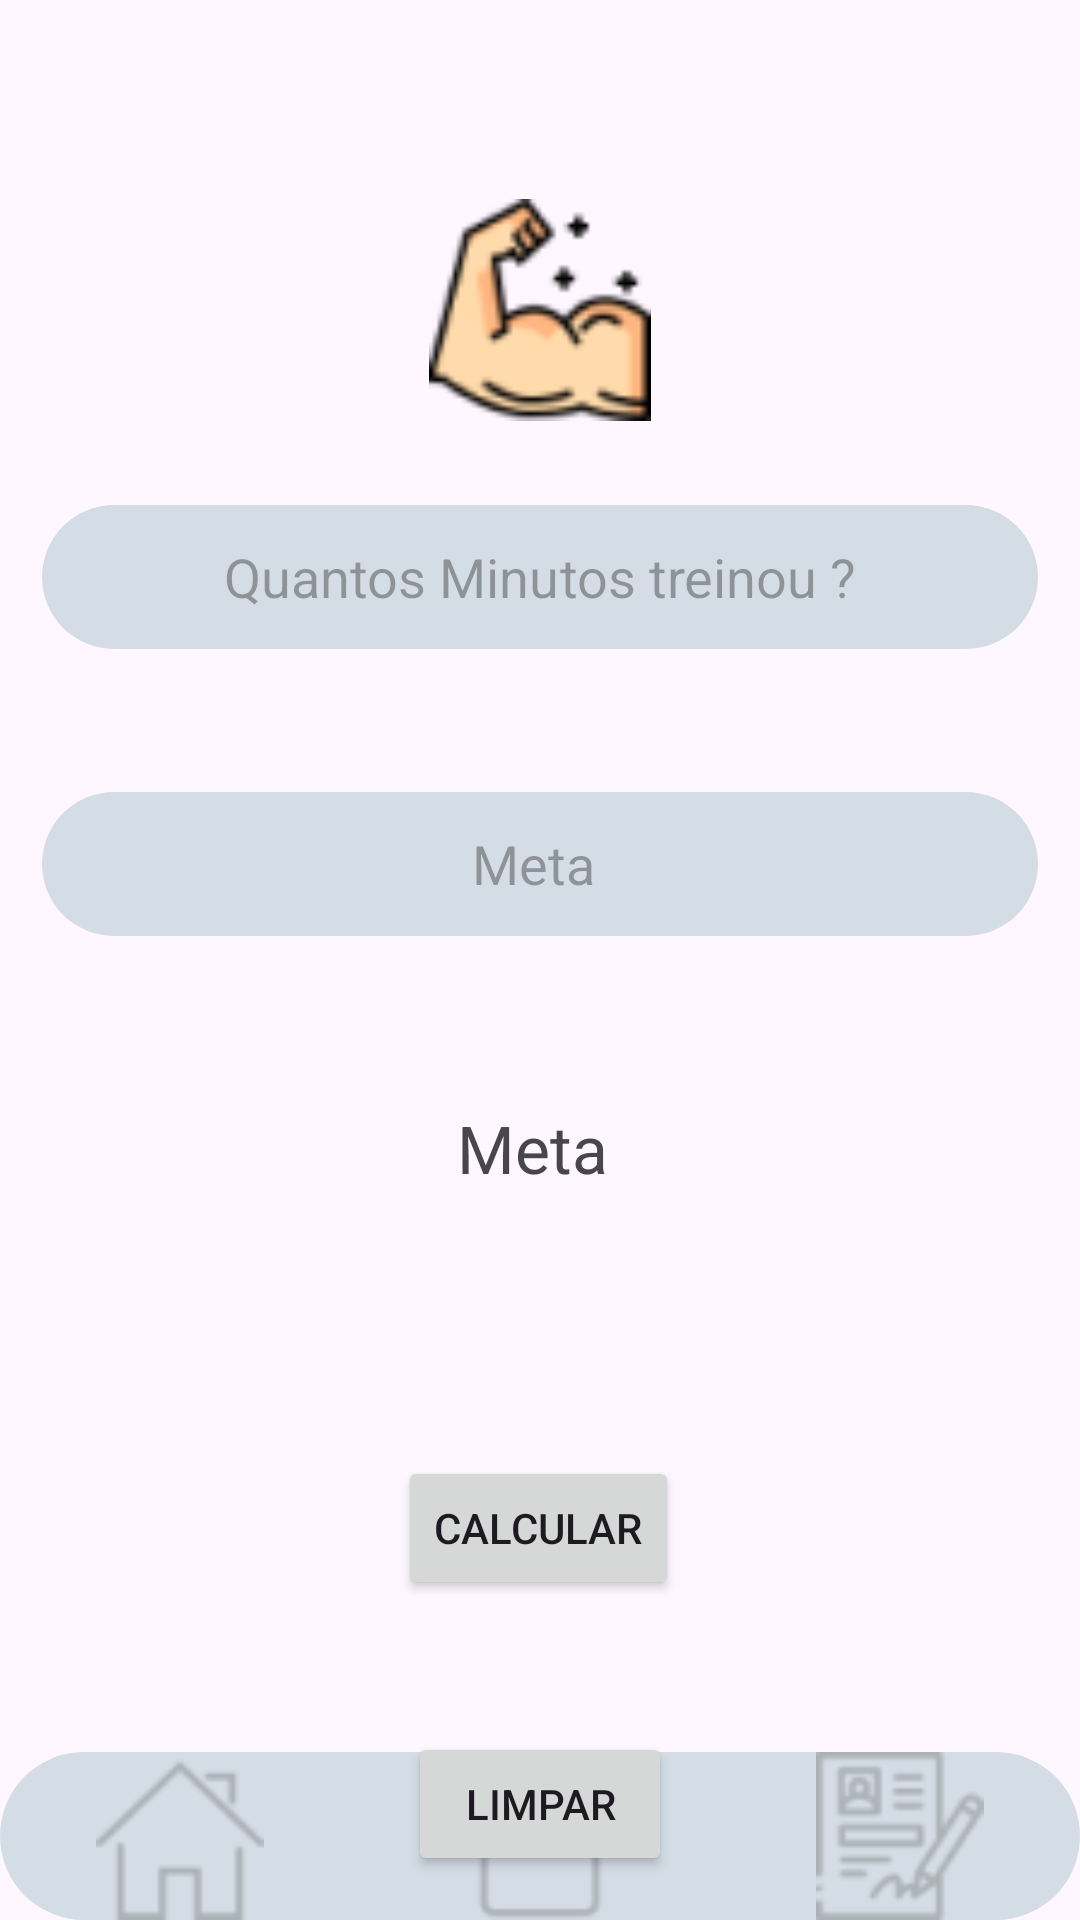

Locate icon controls on the screen. Image size 1080w x 1920h, boxes as (x1, y1, x2, y2).
Início: (0, 1752, 360, 1920)
muscle: (429, 199, 651, 421)
Perfil: (720, 1752, 1080, 1920)
